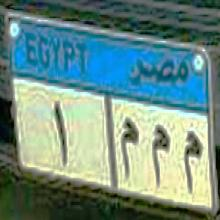1: (53, 100, 68, 165)
meem: (182, 127, 204, 194), (119, 116, 139, 178), (150, 126, 171, 184)
